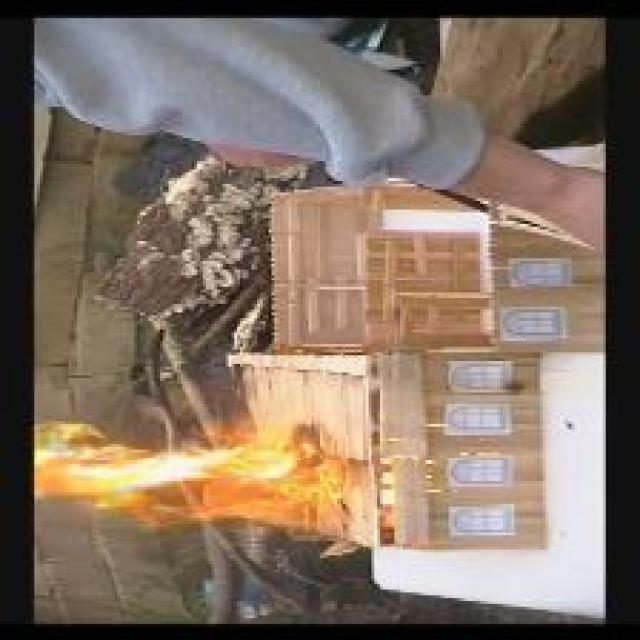Fire: (35, 422, 352, 528)
